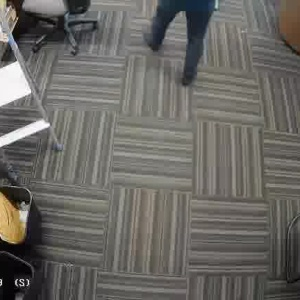person: (149, 0, 218, 90)
